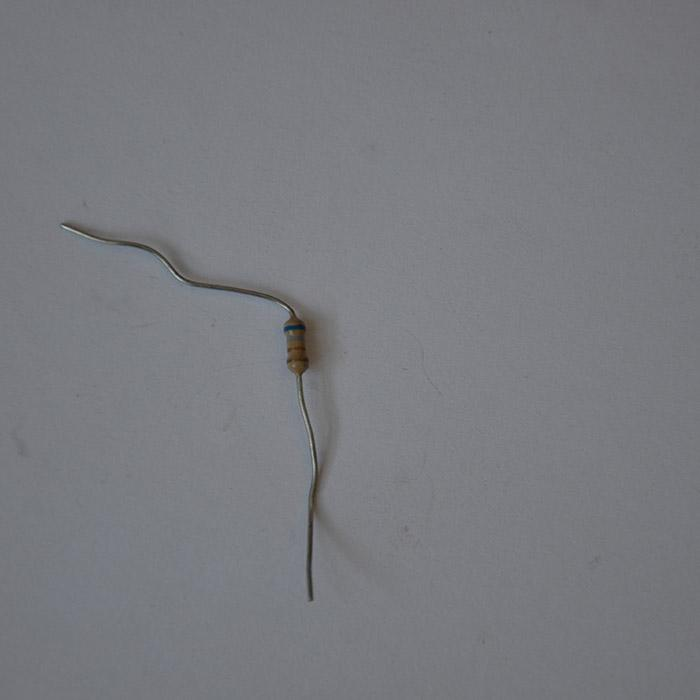resistor: (282, 315, 309, 374)
